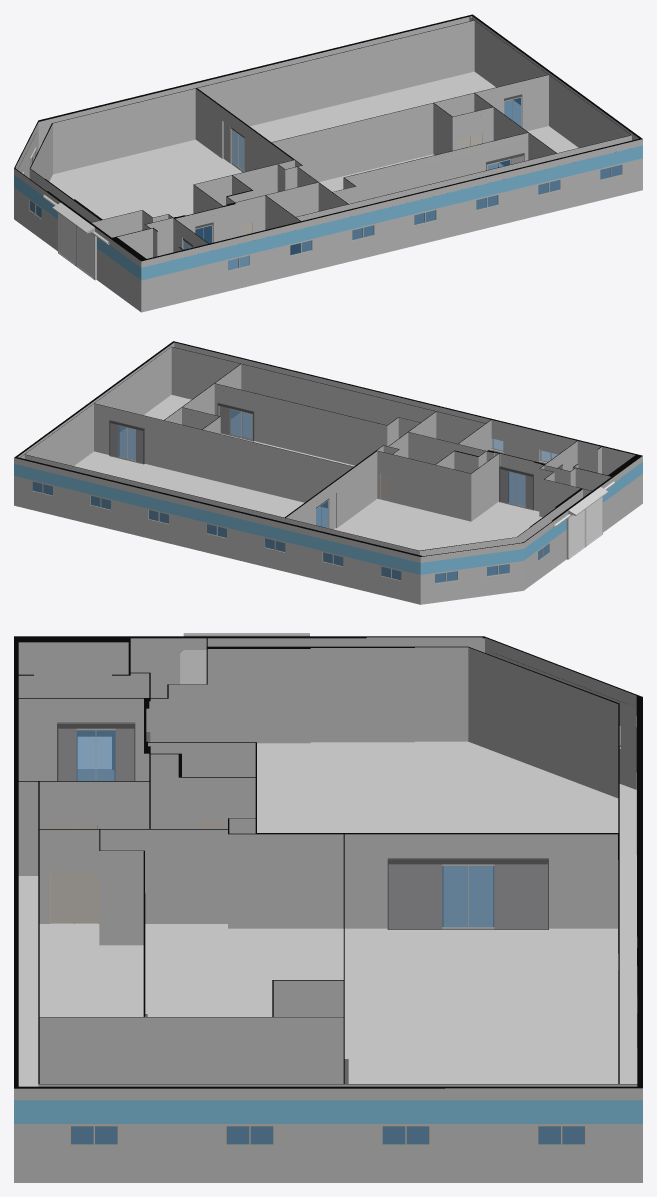
3 views of the same model, one above another, from view 1: azimuth 30°, elevation 25°; view 2: azimuth 150°, elevation 25°; view 3: azimuth 270°, elevation 25° (orthographic). The views are drawn at different scales.
Parts seen in each view (by area): view 1: V4동_2F_벽, V4동_2~F_슬라브_벽, V4동_2F_바닥, V4동_2F_창문, V4동_2F_양개문, V4동_2F_자동문, V4동_2F_방화문; view 2: V4동_2F_벽, V4동_2~F_슬라브_벽, V4동_2F_바닥, V4동_2F_자동문, V4동_2F_창문, V4동_2F_양개문; view 3: V4동_2F_벽, V4동_2F_바닥, V4동_2~F_슬라브_벽, V4동_2F_자동문, V4동_2F_창문, V4동_2F_방화문, V4동_2F_양개문.
Part boxes in pixels (box(x1,y1,x2,y2)): V4동_2F_벽: box(14, 27, 642, 312); V4동_2~F_슬라브_벽: box(14, 14, 642, 267); V4동_2F_바닥: box(49, 71, 578, 270); V4동_2F_창문: box(22, 146, 623, 272); V4동_2F_양개문: box(43, 194, 109, 280); V4동_2F_자동문: box(183, 94, 524, 249); V4동_2F_방화문: box(241, 133, 482, 254); V4동_2F_벽: box(14, 353, 642, 604); V4동_2~F_슬라브_벽: box(14, 341, 642, 562); V4동_2F_바닥: box(74, 395, 542, 550); V4동_2F_자동문: box(109, 402, 562, 528); V4동_2F_창문: box(31, 438, 558, 584); V4동_2F_양개문: box(553, 481, 614, 559); V4동_2F_벽: box(14, 649, 642, 1182); V4동_2F_바닥: box(18, 741, 637, 1086); V4동_2~F_슬라브_벽: box(14, 636, 642, 1100); V4동_2F_자동문: box(57, 722, 548, 1083); V4동_2F_창문: box(68, 725, 620, 1147); V4동_2F_방화문: box(49, 820, 223, 923); V4동_2F_양개문: box(178, 633, 309, 684).
Bounding box in the file's own units: 41.8 × 4.03 × 24.15.
